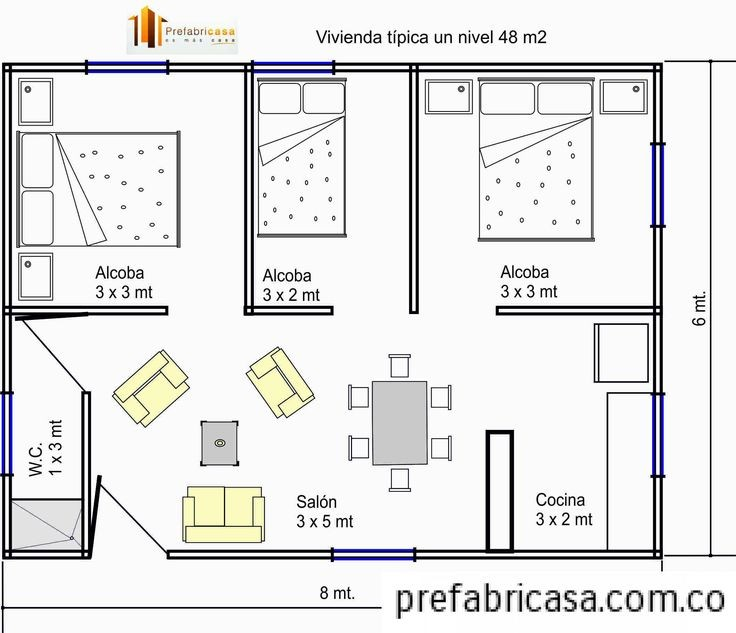door: (86, 472, 166, 568), (12, 309, 103, 391)
room: (5, 298, 492, 561), (409, 62, 661, 318), (2, 47, 249, 308), (237, 62, 421, 311), (490, 307, 665, 556)
wall: (2, 54, 252, 81), (413, 541, 661, 567), (242, 52, 264, 314), (1, 49, 14, 391), (408, 60, 425, 319), (333, 61, 667, 74), (2, 299, 169, 324), (493, 300, 672, 323), (167, 544, 333, 565), (648, 311, 671, 393), (648, 479, 670, 563), (238, 304, 338, 322), (651, 225, 672, 310), (1, 549, 95, 566), (652, 62, 670, 146), (1, 477, 16, 563)
window: (331, 541, 417, 566), (648, 141, 672, 222), (647, 392, 671, 472), (83, 61, 173, 75), (1, 393, 16, 466)
